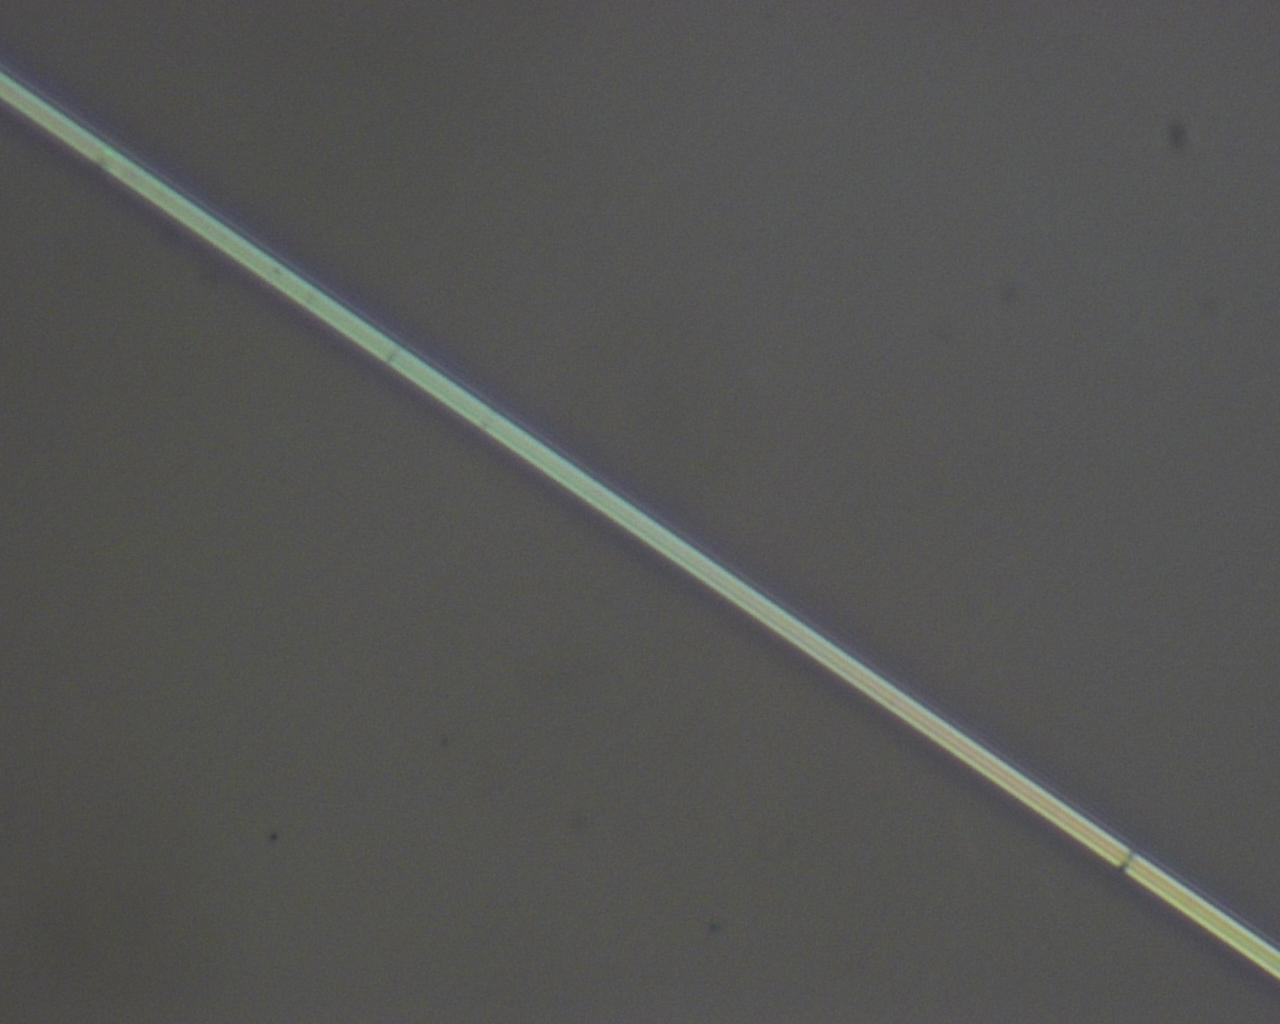fiber: (41, 0, 275, 491), (754, 0, 912, 491), (1138, 491, 1250, 1024)
